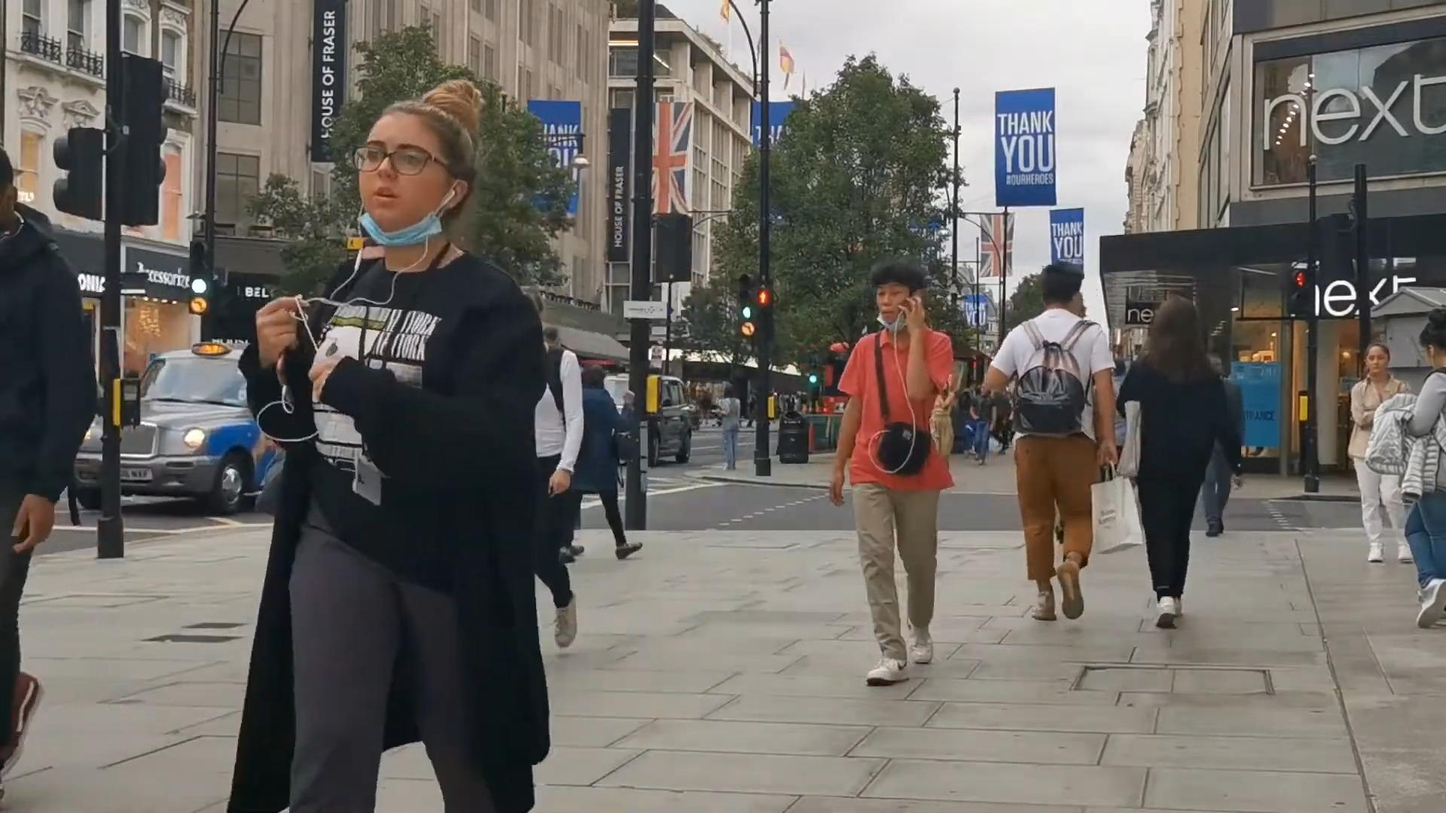no-helmet: (355, 78, 485, 248), (869, 255, 929, 332), (1149, 295, 1202, 355), (1040, 261, 1084, 310), (1418, 308, 1446, 370), (1364, 340, 1390, 374), (581, 365, 606, 389)
